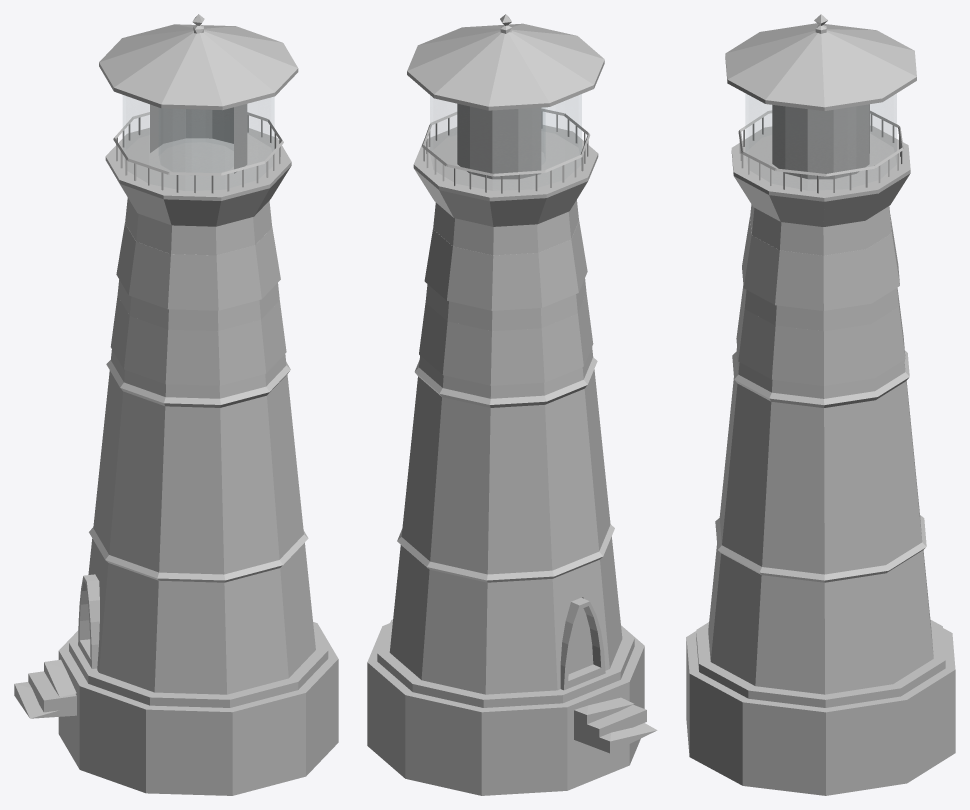
File: lowPoly_lighthouse.obj
3 views of the same model, side by side, from view 1: azimuth 30°, elevation 25°; view 2: azimuth 150°, elevation 25°; view 3: azimuth 270°, elevation 25° (orthographic).
Parts seen in each view (by area): view 1: Boole_1, Stairs_1, Sphere_1, Cylinder_2, Tube, Tube_1, Array_1, Door; view 2: Boole_1, Stairs_1, Sphere_1, Cylinder_2, Tube_1, Door, Tube, Array_1; view 3: Boole_1, Stairs_1, Sphere_1, Cylinder_2, Tube_1, Tube, Array_1.
Part boxes in pixels (box(x1,y1,x2,y2)): Boole_1: box(88, 197, 315, 694); Stairs_1: box(14, 622, 338, 795); Sphere_1: box(99, 14, 298, 110); Cylinder_2: box(105, 127, 291, 226); Tube: box(123, 95, 273, 172); Tube_1: box(150, 104, 247, 173); Array_1: box(113, 112, 283, 193); Door: box(78, 574, 99, 668); Boole_1: box(389, 200, 622, 694); Stairs_1: box(367, 619, 657, 795); Sphere_1: box(407, 14, 604, 110); Cylinder_2: box(413, 125, 598, 226); Tube_1: box(457, 103, 541, 179); Door: box(560, 597, 605, 690); Tube: box(430, 94, 581, 164); Array_1: box(422, 108, 590, 193); Boole_1: box(708, 204, 933, 694); Stairs_1: box(686, 619, 955, 795); Sphere_1: box(725, 14, 916, 110); Cylinder_2: box(731, 125, 910, 226); Tube_1: box(772, 104, 869, 179); Tube: box(746, 94, 896, 160); Array_1: box(738, 110, 903, 193).
Size of the model in its own units: 0.2274 by 0.5592 by 0.1886.
